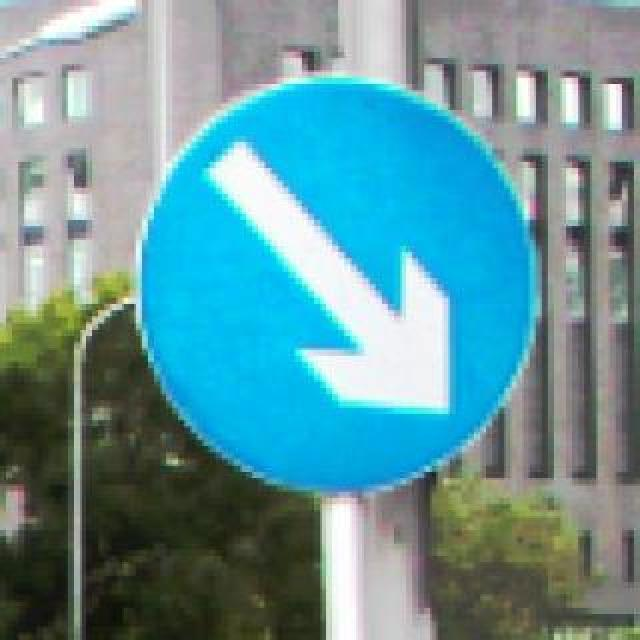keep right: (124, 66, 536, 498)
